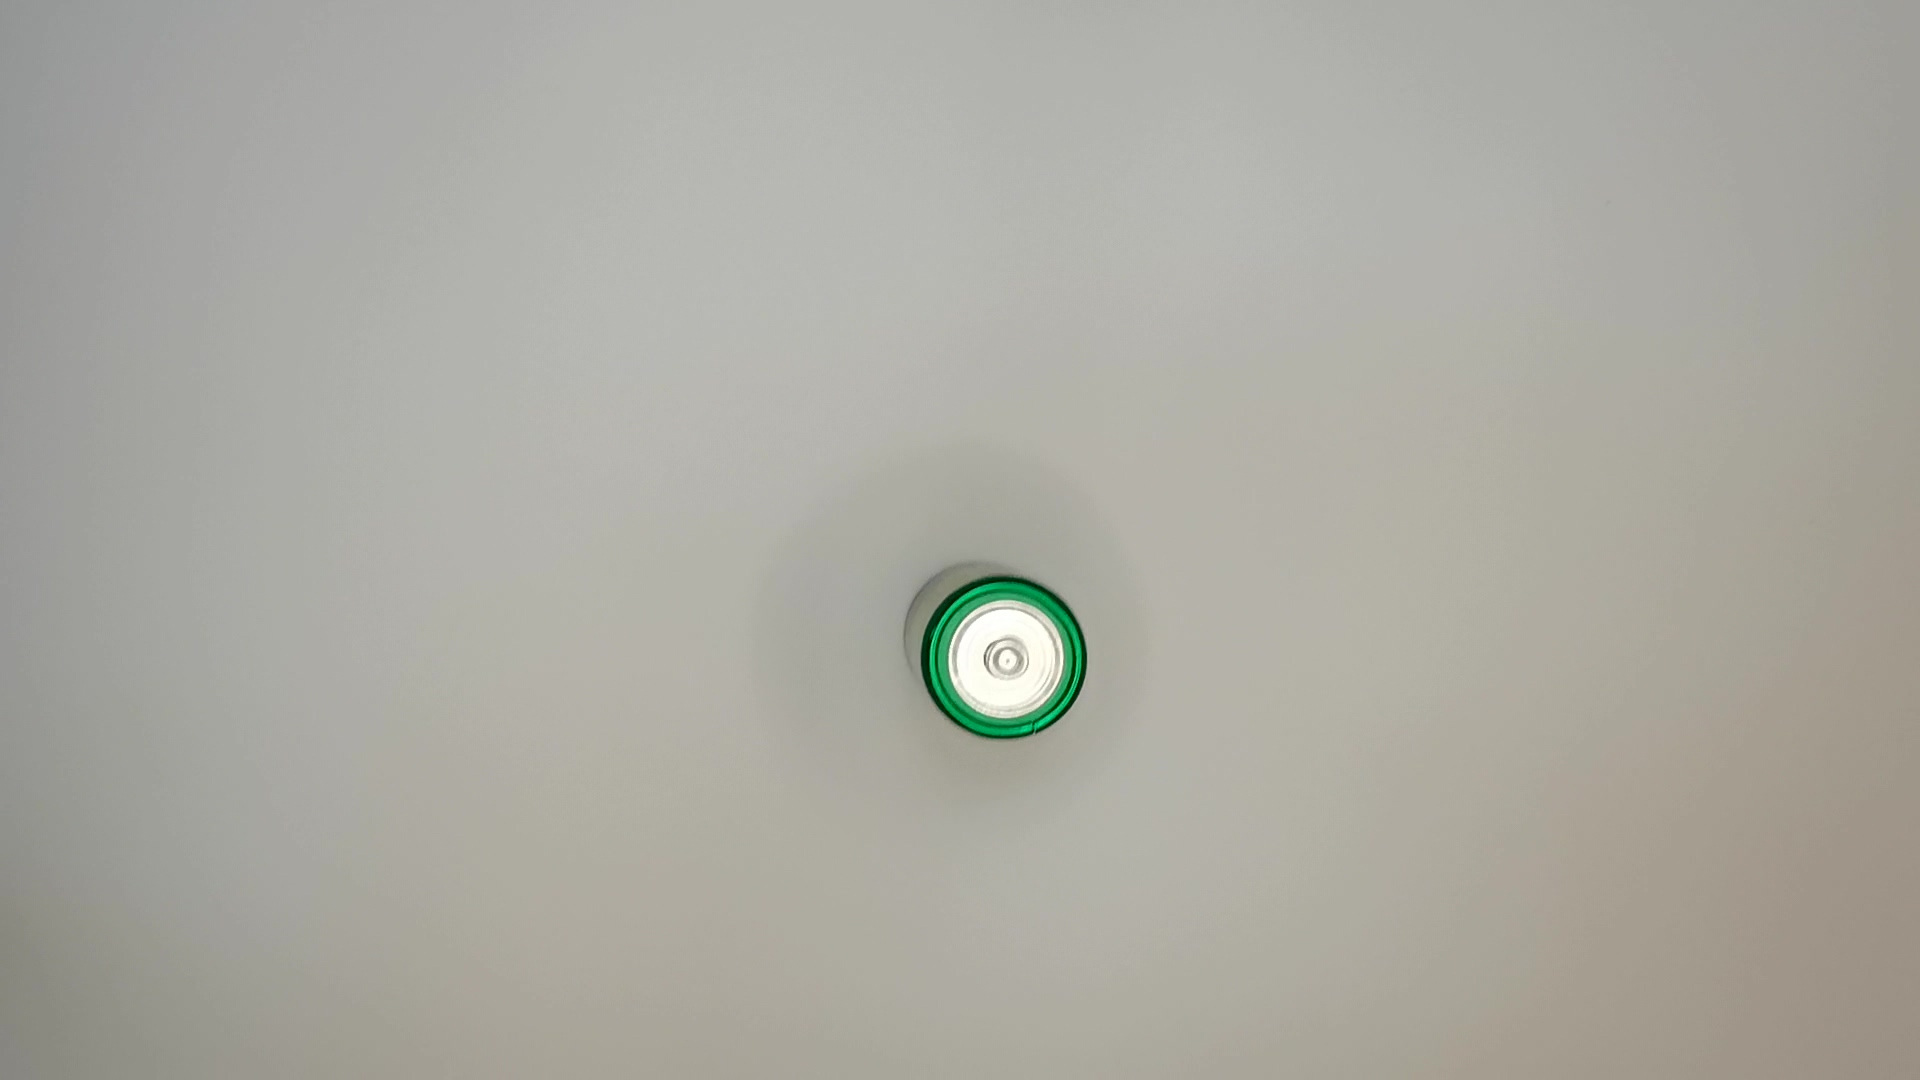battery: (895, 553, 1092, 742)
